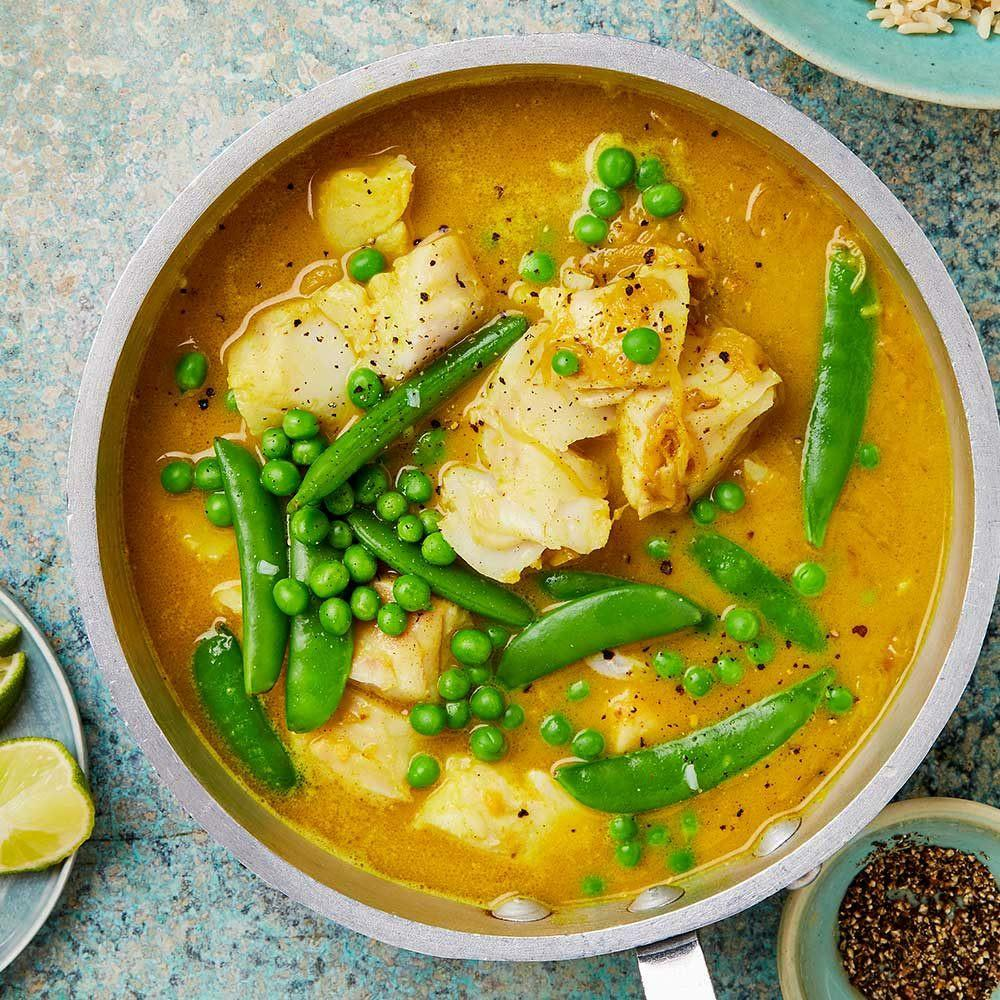FishCurry: (125, 71, 978, 928)
